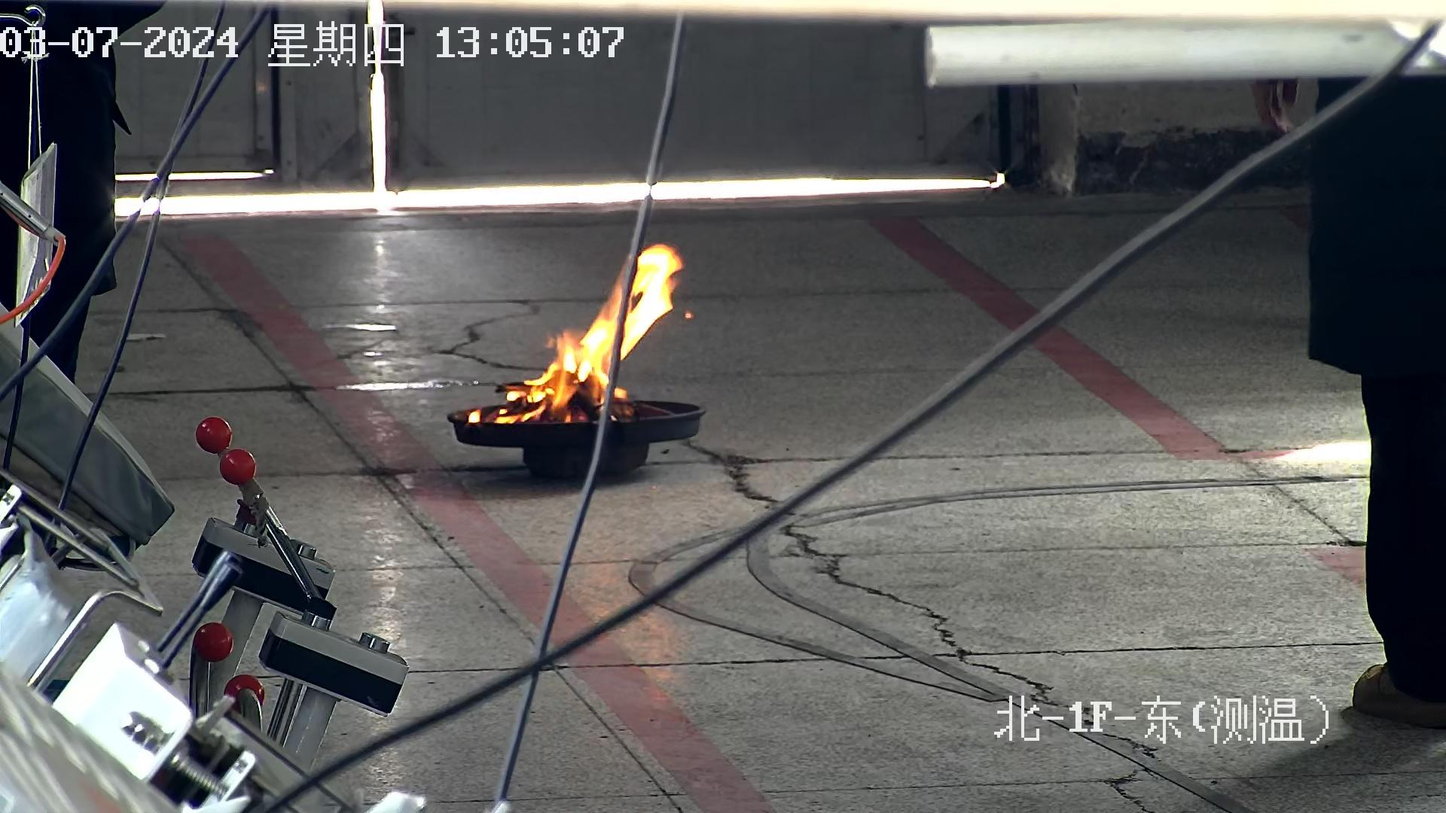fire: (496, 281, 622, 422), (620, 244, 682, 359)
